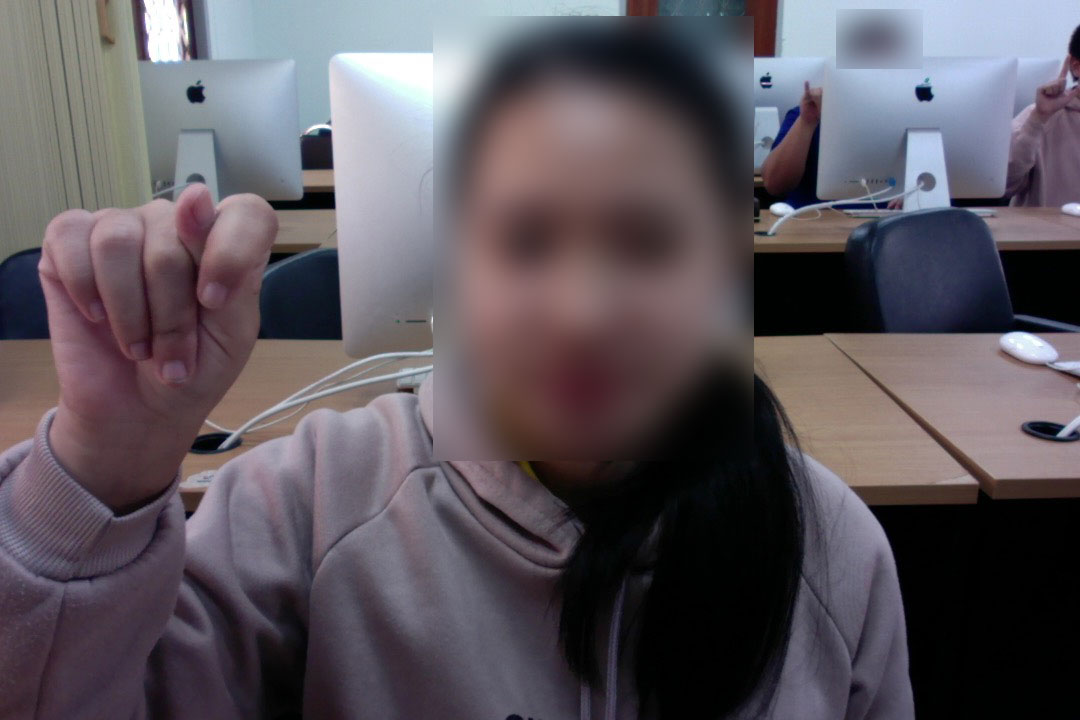tor: (31, 184, 282, 461)
